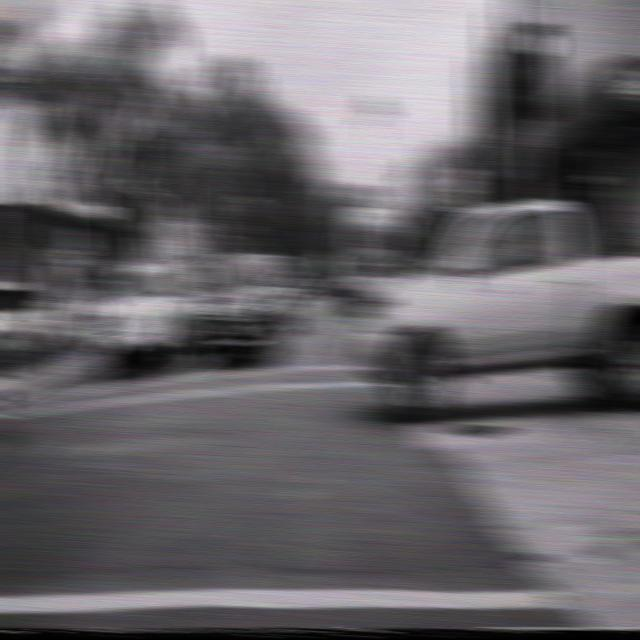speedLimit25: (445, 166, 479, 213)
